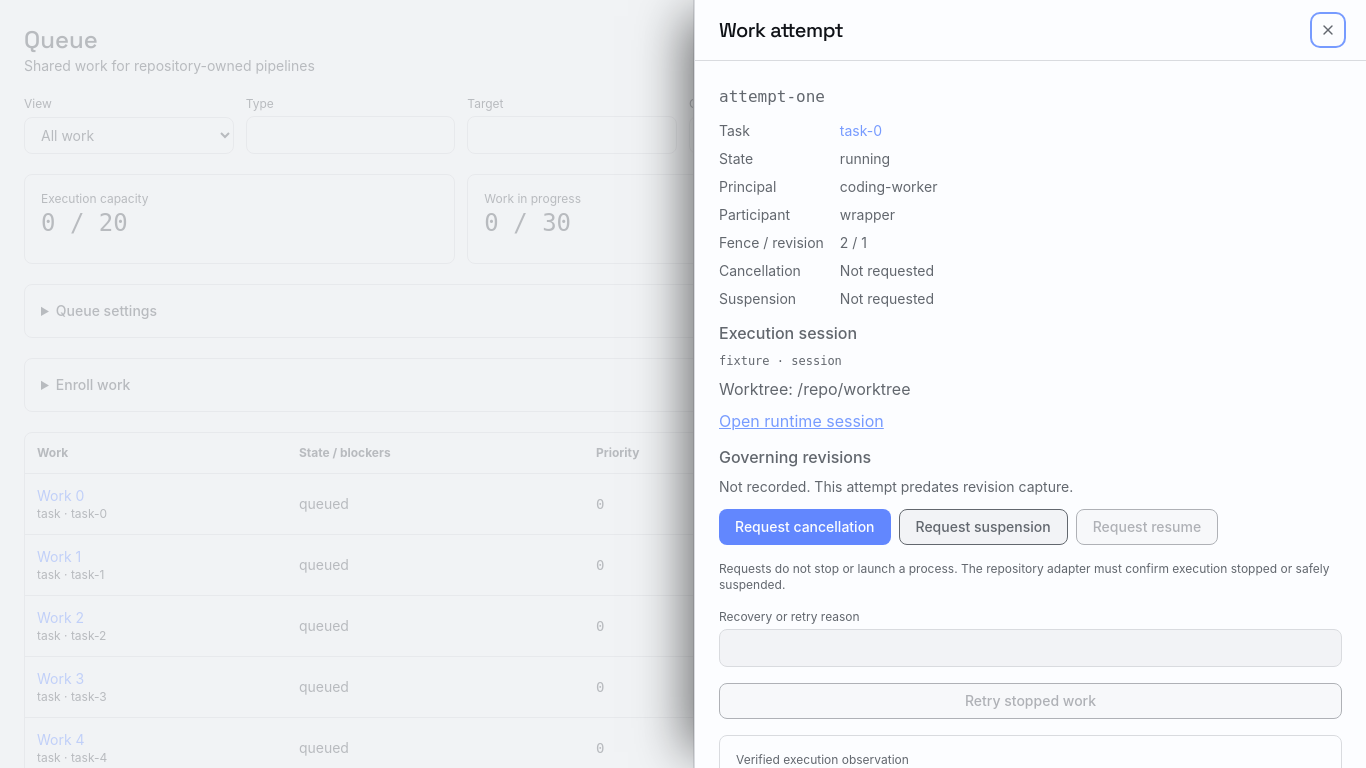
Test: requests cancellation without claiming the running process stopped
The image size is (1366, 768).
expect the link "Open runtime session" is shown: met, box [719, 411, 884, 431]
What coordinates should you click on to do the following:
click the button "Request cancellation"
I would click on:
 (805, 527)
Its box is [719, 509, 890, 545].
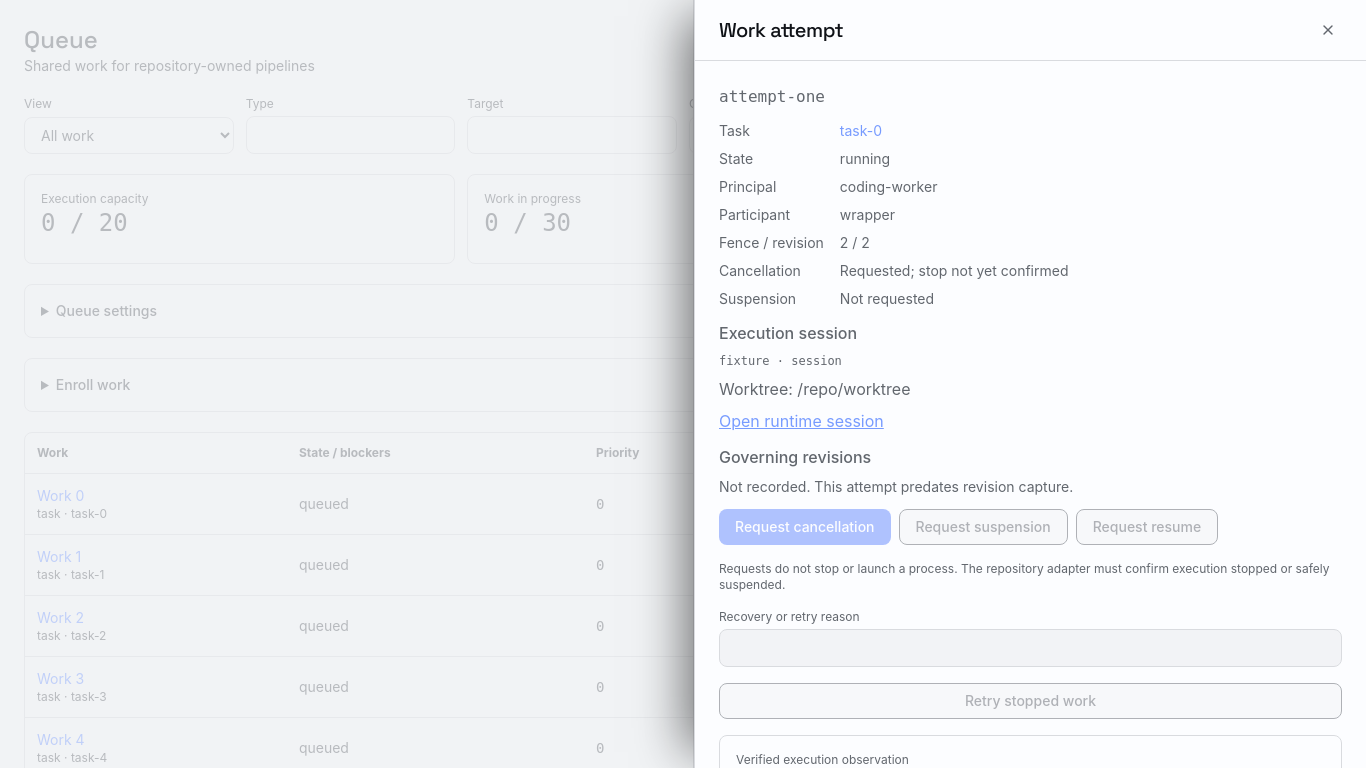
expect the text "running" is shown: met, box [840, 150, 890, 167]
expect the text "Requested; stop not yet confirmed" is shown: met, box [840, 262, 1068, 279]
